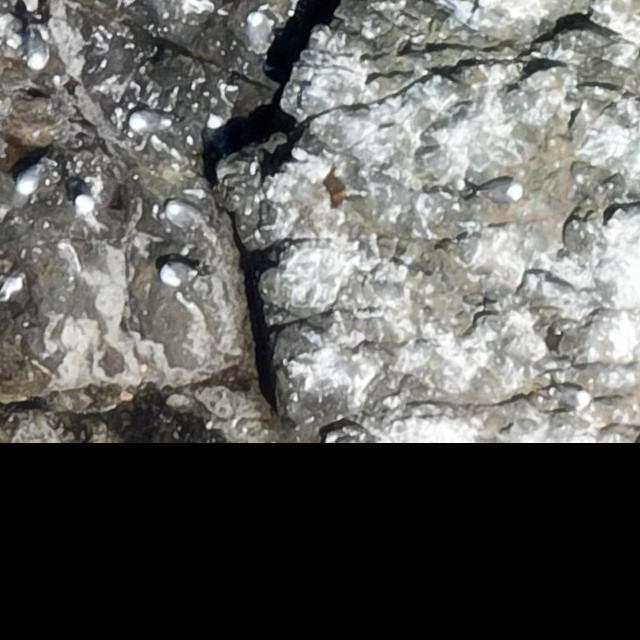umineko: (26, 16, 54, 74), (163, 198, 210, 231), (246, 7, 271, 61), (69, 172, 95, 214), (160, 263, 205, 287), (482, 183, 520, 203), (132, 112, 167, 130), (17, 165, 40, 191), (554, 388, 586, 406)
